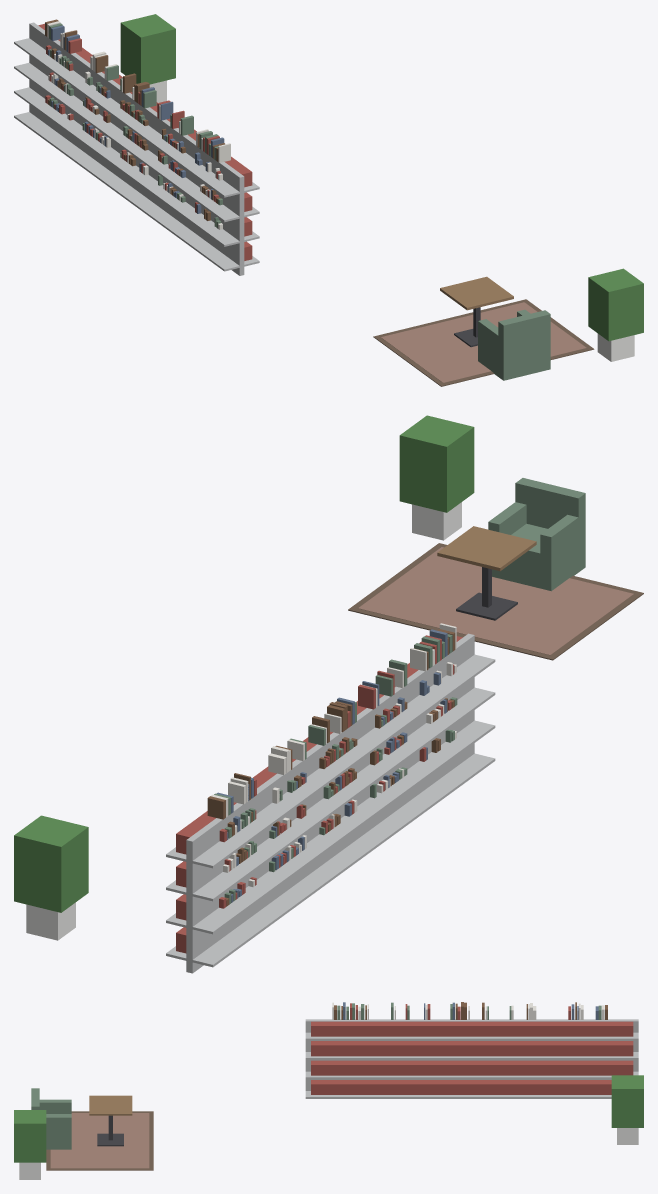
Rendered from fine-s1.glb.
The picture shows the model from 3 angles, top to bottom: view 1: azimuth 30°, elevation 25°; view 2: azimuth 150°, elevation 25°; view 3: azimuth 270°, elevation 25°; orthographic projection. The views are drawn at different scales.
Visible parts, largest first — view 1: soft-s1, shelving.004, shelving.000, shelving.001, plant-medium.000, sofa.000, shelving.003, shelving.002, plant-medium.001, coffee-table.000; view 2: soft-s1, shelving.000, shelving.004, shelving.002, shelving.001, plant-medium.000, plant-medium.001, sofa.000, shelving.003, coffee-table.000; view 3: soft-s1, shelving.000, shelving.004, shelving.001, shelving.002, shelving.003, plant-medium.000, plant-medium.001, sofa.000, coffee-table.000.
Boxes of the visible parts, x1=… form: soft-s1: x1=45, y1=19, x2=594, y2=386; shelving.004: x1=163, y1=132, x2=259, y2=275; shelving.000: x1=14, y1=22, x2=92, y2=161; shelving.001: x1=51, y1=51, x2=131, y2=187; plant-medium.000: x1=588, y1=268, x2=643, y2=361; sofa.000: x1=478, y1=309, x2=550, y2=380; shelving.003: x1=126, y1=106, x2=202, y2=237; shelving.002: x1=88, y1=77, x2=169, y2=216; plant-medium.001: x1=120, y1=14, x2=175, y2=102; coffee-table.000: x1=440, y1=276, x2=513, y2=347; soft-s1: x1=207, y1=543, x2=643, y2=908; shelving.000: x1=166, y1=780, x2=294, y2=973; shelving.004: x1=393, y1=633, x2=495, y2=820; shelving.002: x1=292, y1=708, x2=394, y2=892; shelving.001: x1=237, y1=744, x2=344, y2=930; plant-medium.000: x1=399, y1=415, x2=474, y2=540; plant-medium.001: x1=14, y1=815, x2=88, y2=940; sofa.000: x1=488, y1=478, x2=585, y2=591; shelving.003: x1=343, y1=671, x2=445, y2=854; coffee-table.000: x1=437, y1=526, x2=536, y2=620; soft-s1: x1=46, y1=1002, x2=607, y2=1170; shelving.000: x1=542, y1=1019, x2=638, y2=1098; shelving.004: x1=305, y1=1019, x2=402, y2=1098; shelving.001: x1=483, y1=1019, x2=579, y2=1098; shelving.002: x1=423, y1=1019, x2=520, y2=1098; shelving.003: x1=364, y1=1019, x2=460, y2=1098; plant-medium.000: x1=14, y1=1110, x2=46, y2=1179; plant-medium.001: x1=611, y1=1075, x2=643, y2=1144; sofa.000: x1=31, y1=1088, x2=71, y2=1149; coffee-table.000: x1=89, y1=1095, x2=132, y2=1146.
Bounding box in the file's own units: 4 × 1.93 × 11.73.
